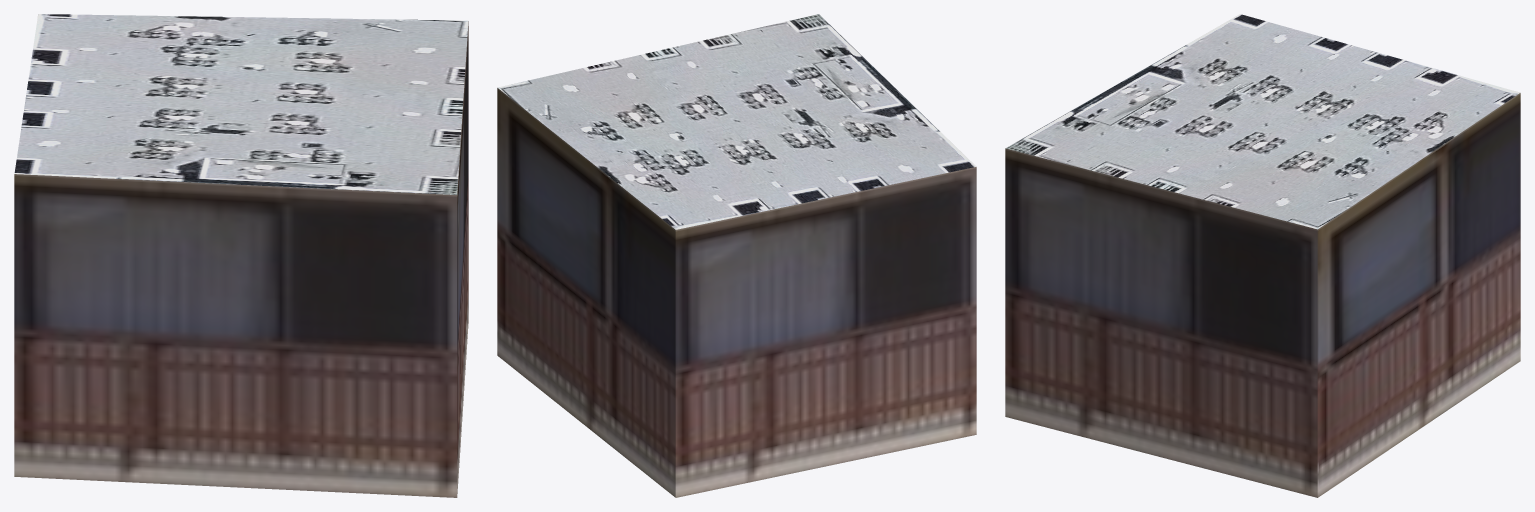
Rendered from ResTex__120.fbx.
3 renders of one model, left to right at view 1: azimuth 30°, elevation 25°; view 2: azimuth 150°, elevation 25°; view 3: azimuth 270°, elevation 25°, orthographic. The views are drawn at different scales.
Parts seen in each view (by area): view 1: CityEngineMaterial_6_m, CityEngineMaterial_4_m; view 2: CityEngineMaterial_6_m, CityEngineMaterial_4_m; view 3: CityEngineMaterial_6_m, CityEngineMaterial_4_m.
Boxes of the visible parts, x1,y1,x2,y2 form: CityEngineMaterial_6_m: (14,21,468,497); CityEngineMaterial_4_m: (14,14,468,194); CityEngineMaterial_6_m: (497,88,976,497); CityEngineMaterial_4_m: (498,14,976,229); CityEngineMaterial_6_m: (1005,93,1520,497); CityEngineMaterial_4_m: (1006,14,1519,229).
Bounding box in the file's own units: 5.16 × 3 × 5.21.
2 materials, 2 textured.
